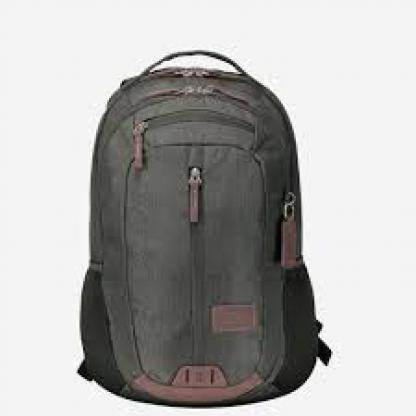morral: (68, 37, 346, 410)
